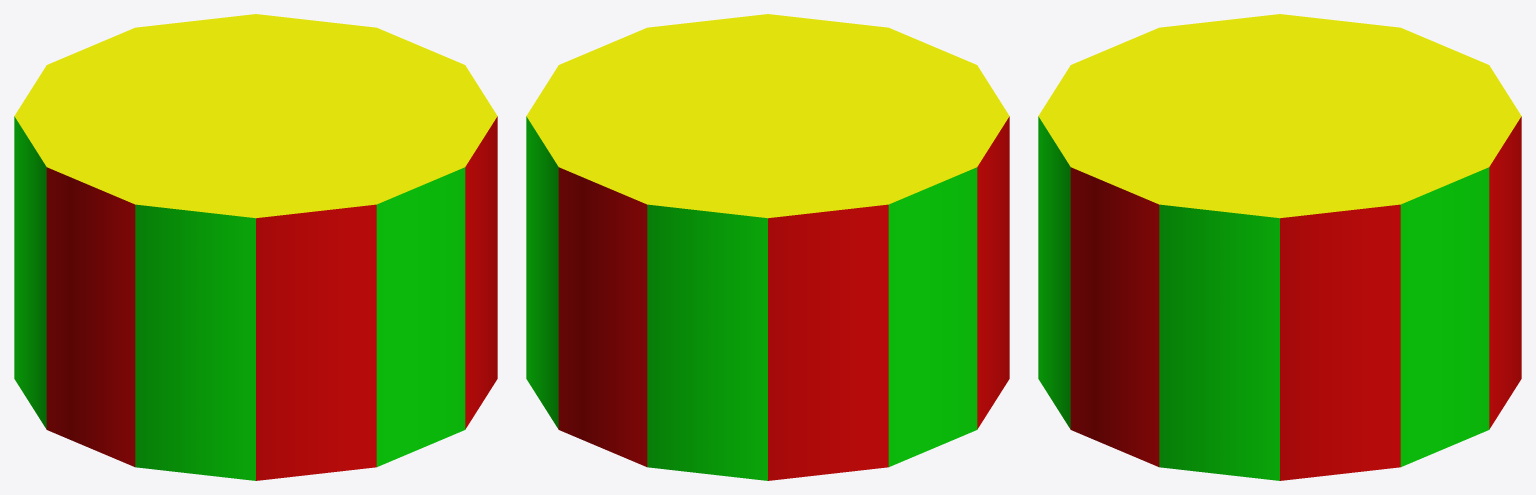
File: 12prism_basic.DAE
The picture shows the model from 3 angles, left to right: view 1: azimuth 30°, elevation 25°; view 2: azimuth 150°, elevation 25°; view 3: azimuth 270°, elevation 25°; orthographic projection.
Visible parts, largest first — view 1: Cylinder001; view 2: Cylinder001; view 3: Cylinder001.
Part boxes in pixels (x1,y1,x2,y2): Cylinder001: (14, 14, 497, 480); Cylinder001: (526, 14, 1009, 480); Cylinder001: (1038, 14, 1521, 480).
Bounding box in the file's own units: 500 × 500 × 300.
